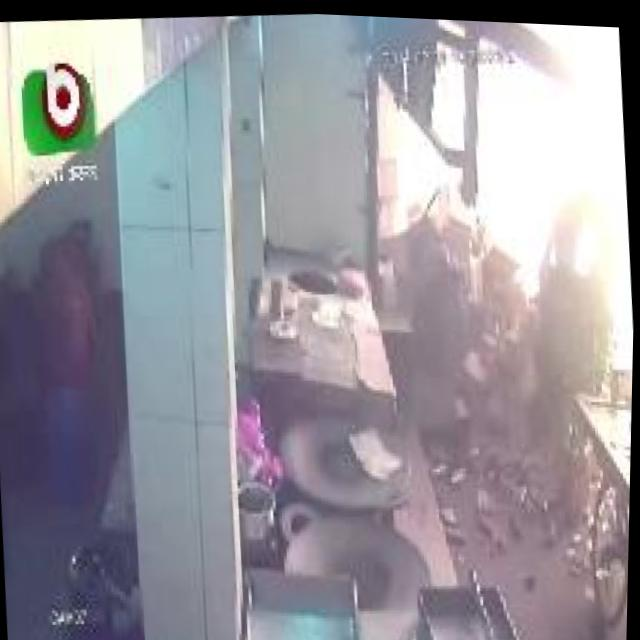fire: (432, 15, 640, 386), (364, 105, 465, 224)
